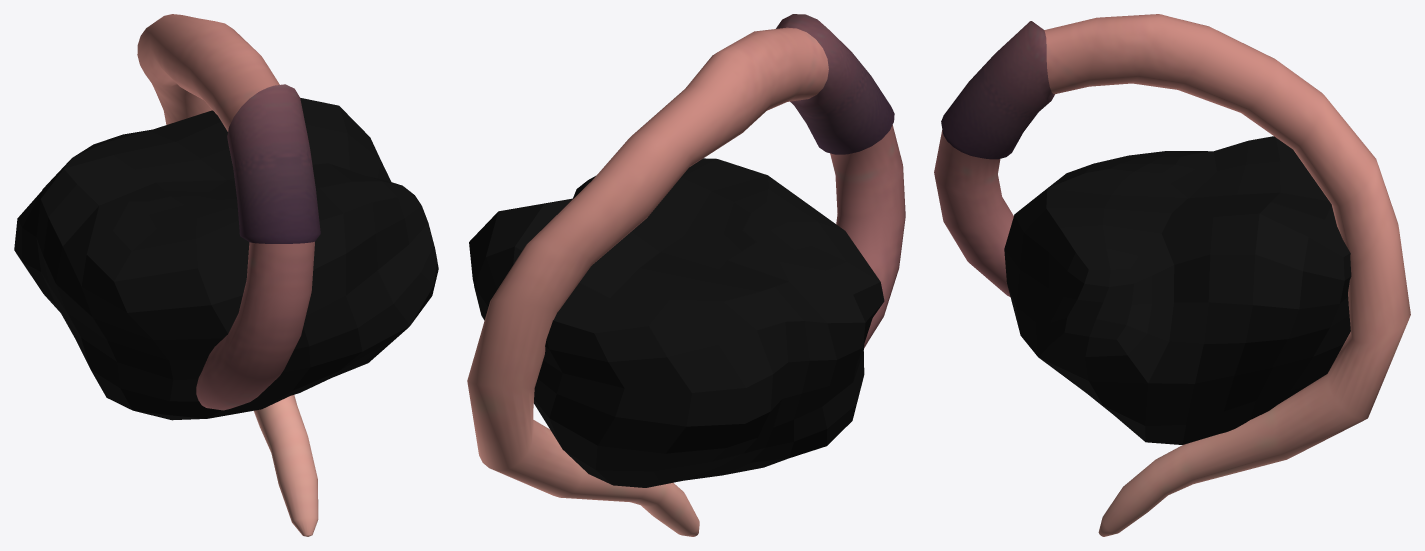
The model's file is StoneBakedBugs.fbx.
3 renders of one model, left to right at view 1: azimuth 30°, elevation 25°; view 2: azimuth 150°, elevation 25°; view 3: azimuth 270°, elevation 25°, orthographic. The views are drawn at different scales.
Parts seen in each view (by area): view 1: blackRock; view 2: blackRock; view 3: blackRock.
Part boxes in pixels (x1=…): blackRock: x1=14, y1=14, x2=438, y2=536; blackRock: x1=467, y1=14, x2=905, y2=536; blackRock: x1=934, y1=14, x2=1410, y2=536.
Bounding box in the file's own units: 20.63 × 29.29 × 25.88.
